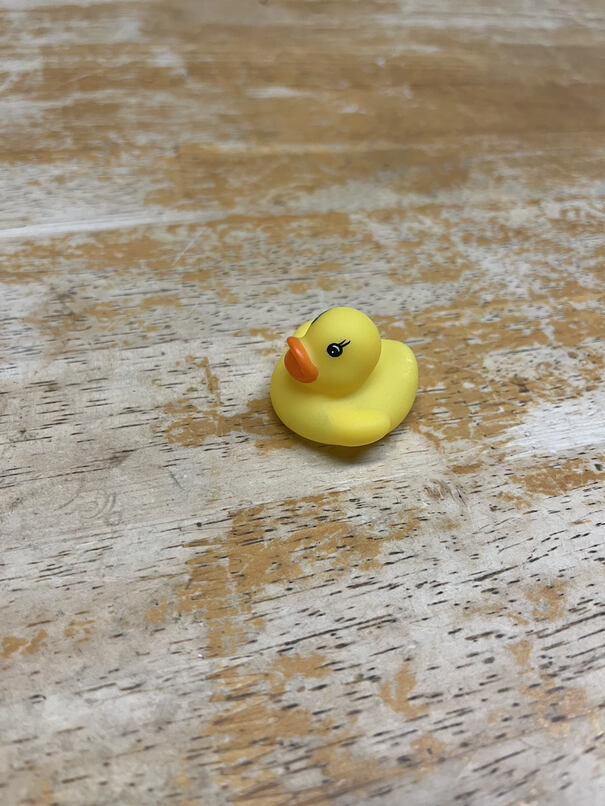duck_regular: (266, 306, 423, 448)
